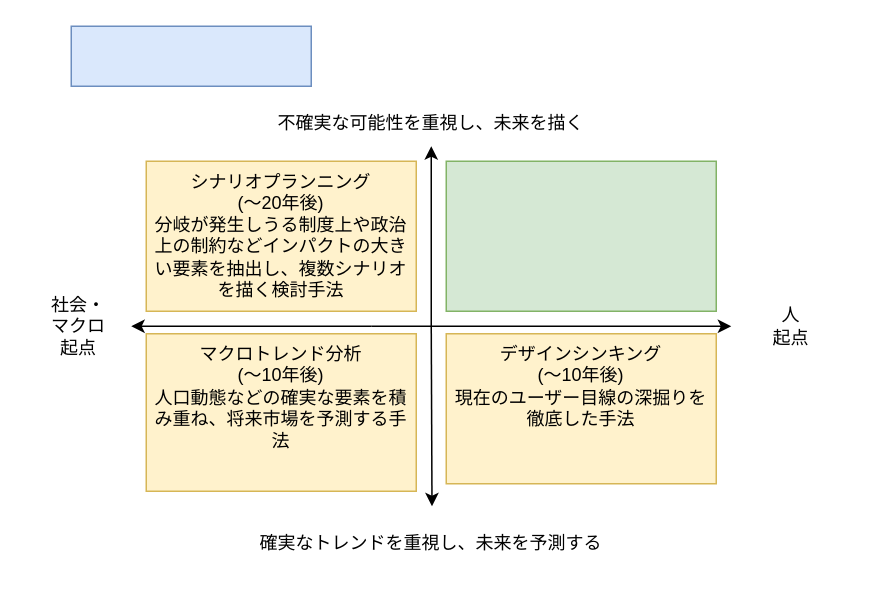
The diagram is 876 pixels wide and 593 high, and some of its shapes have lost their labels. Here are the shapes that lost their labels. From the top down, the centre of each, then its label:
At point (190, 55): "虚構と糸 ～SF思考～".
At point (580, 235): "SF思考 (10～50年後) 未来の言葉やキャラクターからありたい社会を考え、バックキャストで新産業や、開発技術や制度をひもといていく手法".
